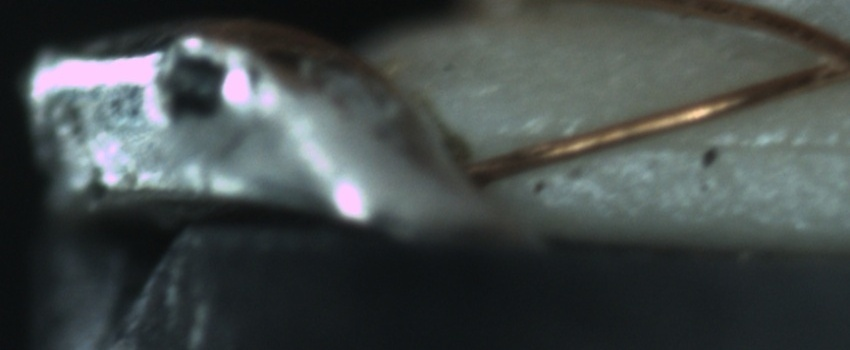DL: (628, 117, 850, 173)
